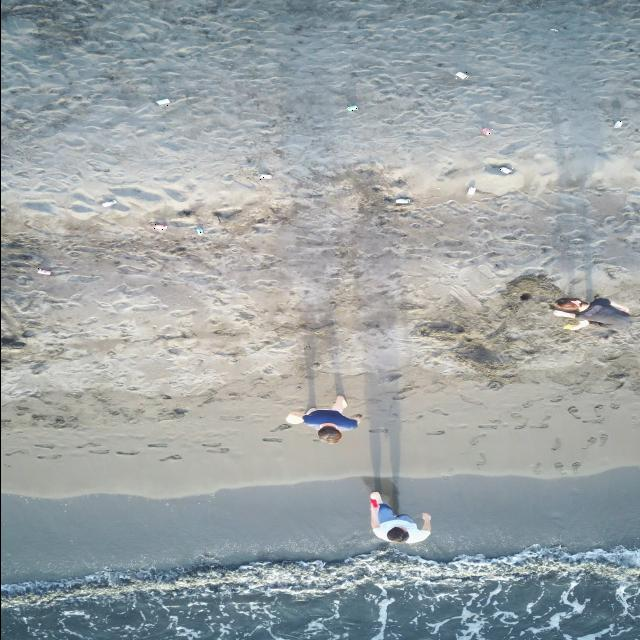Garbage: (484, 163, 515, 175), (36, 267, 51, 275), (152, 223, 167, 231), (101, 199, 116, 207), (395, 196, 409, 203), (455, 71, 467, 79), (480, 127, 492, 135), (500, 164, 512, 172), (260, 172, 272, 180), (467, 184, 475, 196), (156, 98, 169, 105), (612, 120, 622, 128), (347, 104, 356, 111), (196, 226, 203, 233), (548, 27, 557, 31)
